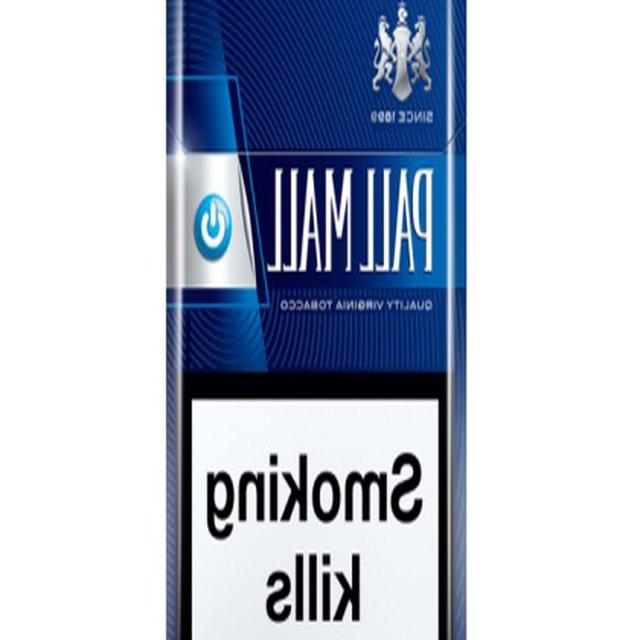pallmall: (165, 0, 468, 640)
